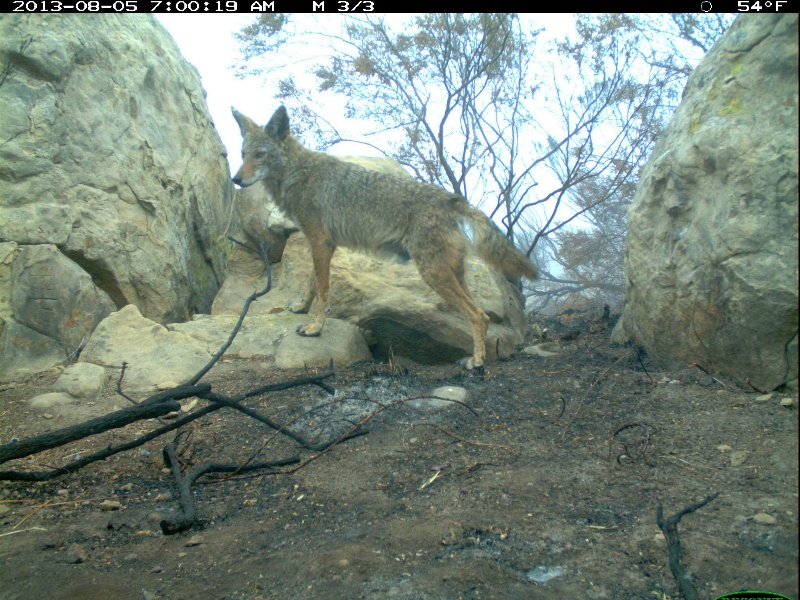coyote: (226, 106, 540, 381)
